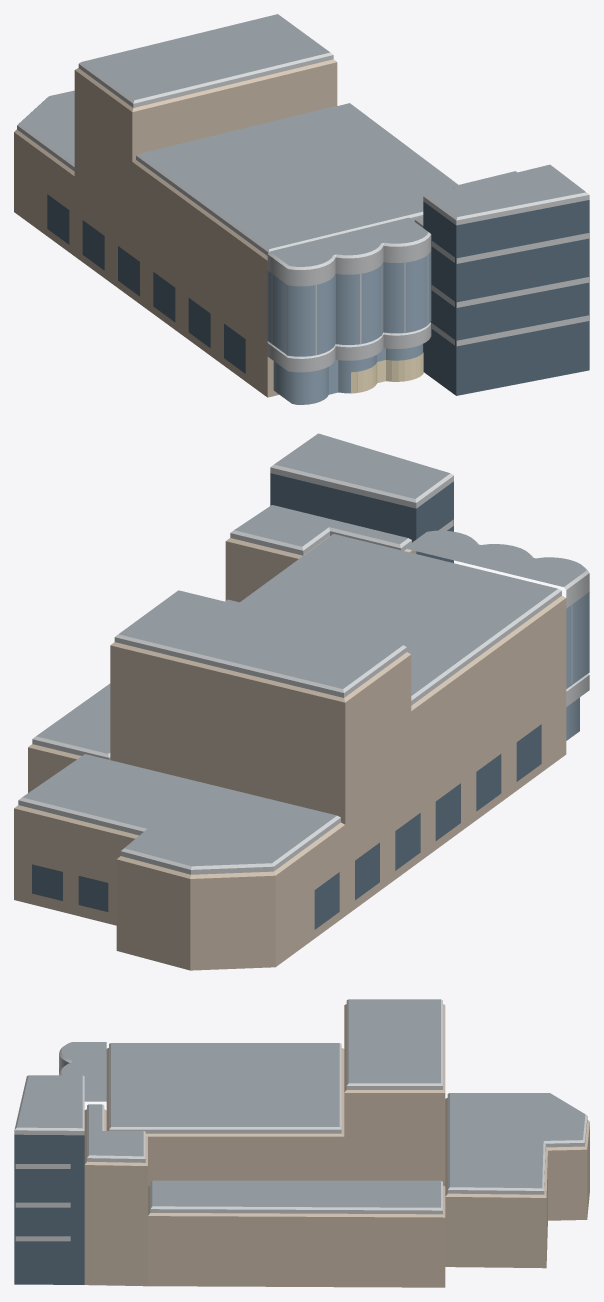
Rendered from knight-theater.glb.
The picture shows the model from 3 angles, top to bottom: view 1: azimuth 30°, elevation 25°; view 2: azimuth 150°, elevation 25°; view 3: azimuth 270°, elevation 25°; orthographic projection. The views are drawn at different scales.
Parts seen in each view (by area): view 1: Knight Theater; view 2: Knight Theater; view 3: Knight Theater.
Part boxes in pixels (<box>): Knight Theater: <box>14,14,589,404</box>; Knight Theater: <box>14,433,589,970</box>; Knight Theater: <box>14,999,589,1287</box>.
Size of the model in its own units: 40.86 by 27.5 by 83.66.
